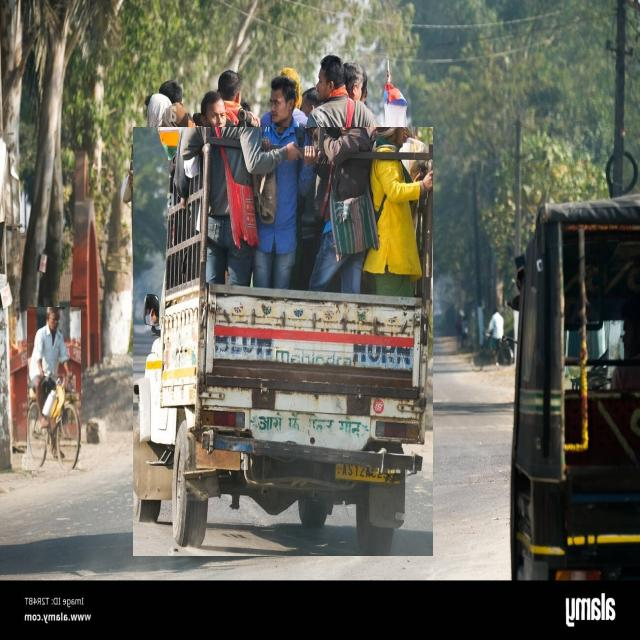bicycle: (27, 307, 80, 470)
truck: (133, 128, 432, 556)
